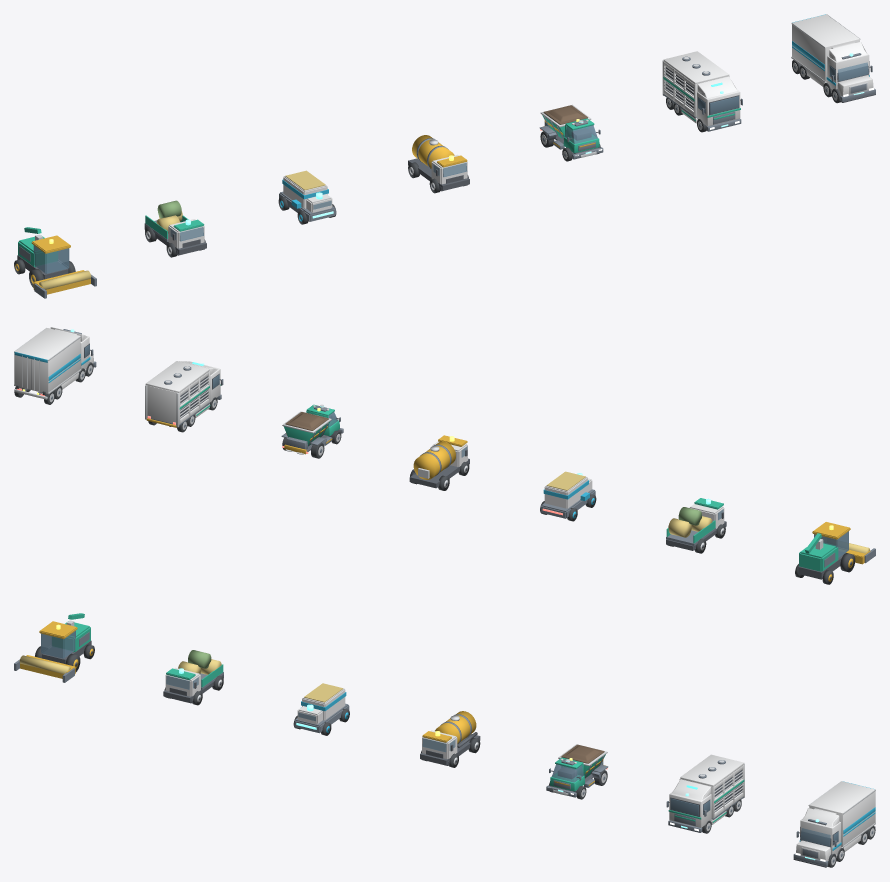
File: vehicles_library.glb
3 views of the same model, one above another, from view 1: azimuth 30°, elevation 25°; view 2: azimuth 150°, elevation 25°; view 3: azimuth 330°, elevation 25° (orthographic). The views are drawn at different scales.
Parts seen in each view (by area): view 1: Rf_BoxBody, Ls_BodyRoof, Harv_Cab, Tank_Body, Rf_CabBody, Bales_Cab_CabBody, Tank_Cab_CabBody, Harv_EngineHood, Ls_CabBody, Ls_CabAero; view 2: Rf_BoxBody, Ls_BodyRoof, Ls_RearGate, Tank_Body, Harv_EngineHood, AGV_Hopper; view 3: Rf_BoxBody, Ls_BodyRoof, Harv_Cab, Tank_Body, Rf_CabBody, Tank_Cab_CabBody, Bales_Cab_CabBody, Harv_EngineHood, Ls_CabBody, Ls_CabAero.
Part boxes in pixels (x1,y1,x2,y2): Rf_BoxBody: (792,14,859,82); Ls_BodyRoof: (663,51,729,84); Harv_Cab: (33,245,69,273); Tank_Body: (412,135,454,168); Rf_CabBody: (827,53,869,89); Bales_Cab_CabBody: (168,219,204,248); Tank_Cab_CabBody: (431,154,467,184); Harv_EngineHood: (18,235,57,267); Ls_CabBody: (697,90,740,126); Ls_CabAero: (697,76,737,98); Rf_BoxBody: (14,328,80,393); Ls_BodyRoof: (145,361,209,392); Ls_RearGate: (147,385,177,424); Tank_Body: (413,441,455,479); Harv_EngineHood: (799,543,838,571); AGV_Hopper: (544,476,587,508); Rf_BoxBody: (809,781,875,847); Ls_BodyRoof: (680,754,744,786); Harv_Cab: (41,630,75,658); Tank_Body: (435,711,476,743); Rf_CabBody: (800,819,840,854); Tank_Cab_CabBody: (422,730,457,758); Bales_Cab_CabBody: (165,667,200,696); Harv_EngineHood: (52,621,90,652); Ls_CabBody: (669,792,711,827); Ls_CabAero: (672,779,710,800).
Bounding box in the file's own units: 50.81 × 2.82 × 5.49.
